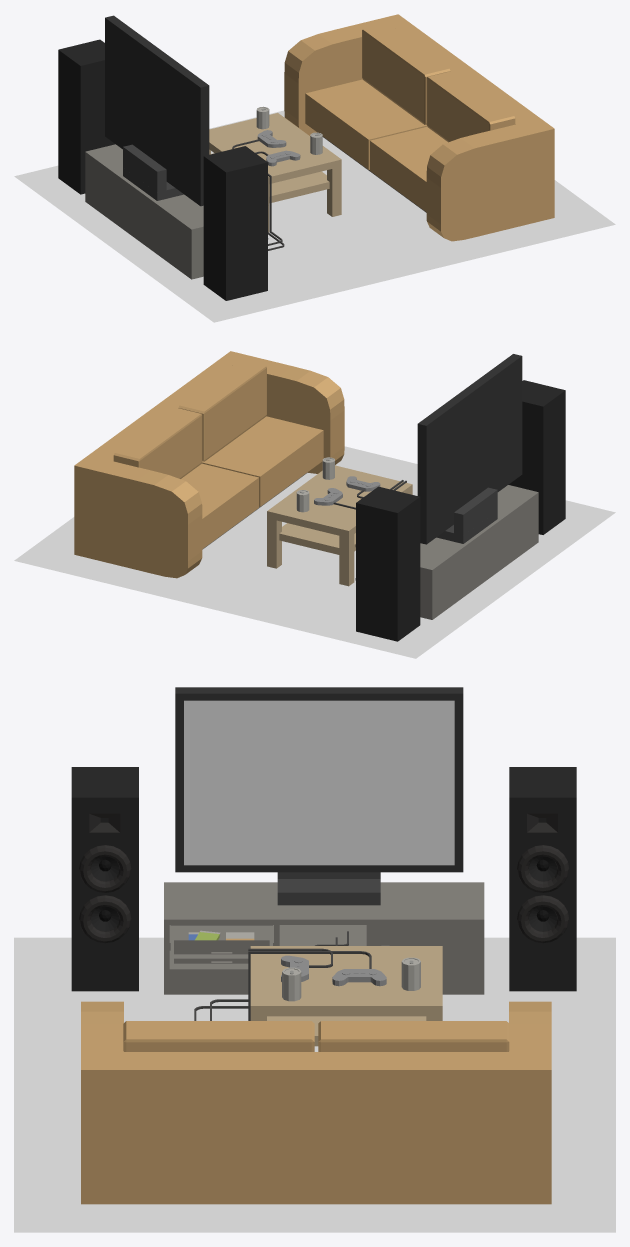
File: Room.glb
The picture shows the model from 3 angles, top to bottom: view 1: azimuth 30°, elevation 25°; view 2: azimuth 150°, elevation 25°; view 3: azimuth 270°, elevation 25°; orthographic projection. The views are drawn at different scales.
Parts seen in each view (by area): view 1: Plane_Plane.001, Cube.001_Cube.002, Cube.008_Cube.019, Cube.011_Cube.025, Cube.002_Cube.003, Cube.024_Cube.040, Cube.009_Cube.024, Cube.006_Cube.016, Cube_Cube.001, Cube.012_Cube.027, Cube.007_Cube.017, Cube.004_Cube.015 (+1 smaller); view 2: Plane_Plane.001, Cube.001_Cube.002, Cube.008_Cube.019, Cube.011_Cube.025, Cube.002_Cube.003, Cube.024_Cube.040, Cube.009_Cube.024, Cube.006_Cube.016, Cube_Cube.001, Cube.012_Cube.027, Cube.004_Cube.015, Cube.007_Cube.017 (+1 smaller); view 3: Plane_Plane.001, Cube_Cube.001, screen, Cube.008_Cube.019, Cube.001_Cube.002, Cube.009_Cube.024, Cube.024_Cube.040, Cube.006_Cube.016, Cube.011_Cube.025, Cube.012_Cube.027, Cube.018_Cube.035, Cube.016_Cube.031 (+6 smaller).
Boxes of the visible parts, x1,y1,x2,y2 form: Plane_Plane.001: [14, 110, 615, 322]; Cube.001_Cube.002: [284, 14, 554, 241]; Cube.008_Cube.019: [58, 39, 268, 300]; Cube.011_Cube.025: [105, 15, 209, 206]; Cube.002_Cube.003: [305, 79, 447, 211]; Cube.024_Cube.040: [362, 23, 515, 142]; Cube.009_Cube.024: [85, 144, 203, 279]; Cube.006_Cube.016: [209, 113, 341, 183]; Cube_Cube.001: [396, 24, 539, 124]; Cube.012_Cube.027: [123, 144, 183, 200]; Cube.007_Cube.017: [211, 153, 329, 202]; Cube.004_Cube.015: [209, 149, 341, 232]; Plane_Plane.001: [14, 446, 615, 658]; Cube.001_Cube.002: [74, 351, 344, 578]; Cube.008_Cube.019: [355, 380, 565, 641]; Cube.011_Cube.025: [417, 354, 522, 544]; Cube.002_Cube.003: [181, 416, 323, 548]; Cube.024_Cube.040: [113, 360, 266, 478]; Cube.009_Cube.024: [420, 485, 538, 619]; Cube.006_Cube.016: [267, 465, 412, 535]; Cube_Cube.001: [89, 361, 233, 461]; Cube.012_Cube.027: [436, 487, 497, 543]; Cube.004_Cube.015: [267, 489, 412, 586]; Cube.007_Cube.017: [279, 523, 355, 554]; Plane_Plane.001: [14, 937, 615, 1232]; Cube_Cube.001: [124, 1052, 508, 1204]; screen: [184, 700, 454, 865]; Cube.008_Cube.019: [71, 767, 576, 991]; Cube.001_Cube.002: [81, 1001, 551, 1204]; Cube.009_Cube.024: [164, 882, 484, 994]; Cube.024_Cube.040: [123, 1021, 509, 1051]; Cube.006_Cube.016: [250, 946, 442, 1016]; Cube.011_Cube.025: [175, 687, 463, 872]; Cube.012_Cube.027: [277, 872, 380, 905]; Cube.018_Cube.035: [170, 925, 272, 958]; Cube.016_Cube.031: [169, 950, 248, 989].
Size of the model in its own units: 5.3 by 2.35 by 4.57.
